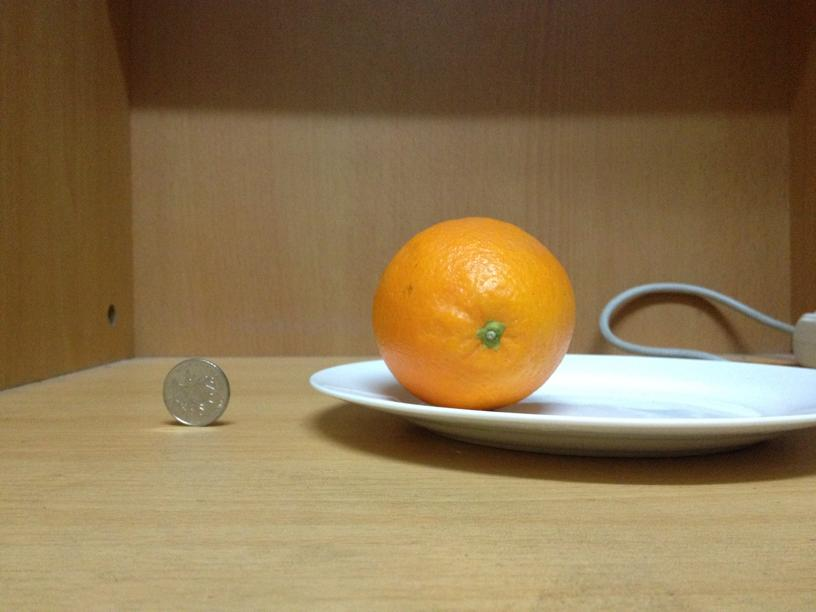coin: (156, 357, 231, 426)
orange: (372, 217, 576, 406)
